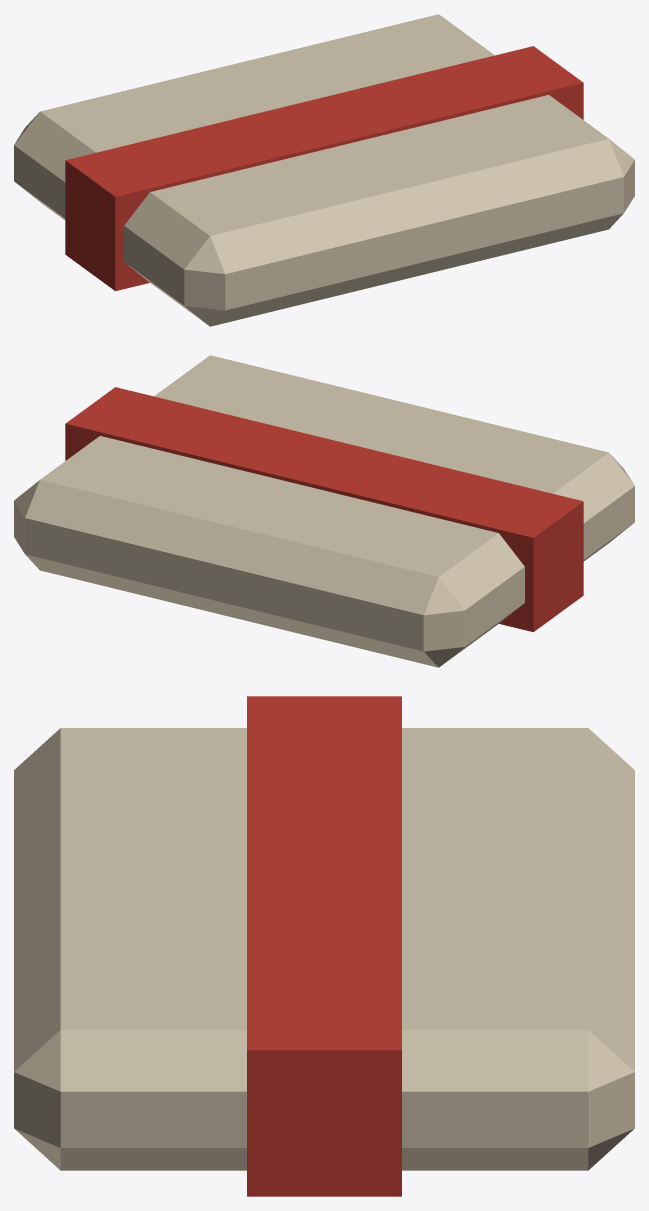
Rendered from cloth.fbx.
3 views of the same model, one above another, from view 1: azimuth 30°, elevation 25°; view 2: azimuth 150°, elevation 25°; view 3: azimuth 270°, elevation 25° (orthographic). The views are drawn at different scales.
Parts seen in each view (by area): view 1: cloth; view 2: cloth; view 3: cloth.
Boxes of the visible parts, x1,y1,x2,y2 form: cloth: [14, 14, 634, 326]; cloth: [14, 355, 634, 667]; cloth: [14, 696, 634, 1196].
Size of the model in its own units: 0.81 by 0.156 by 0.6.
